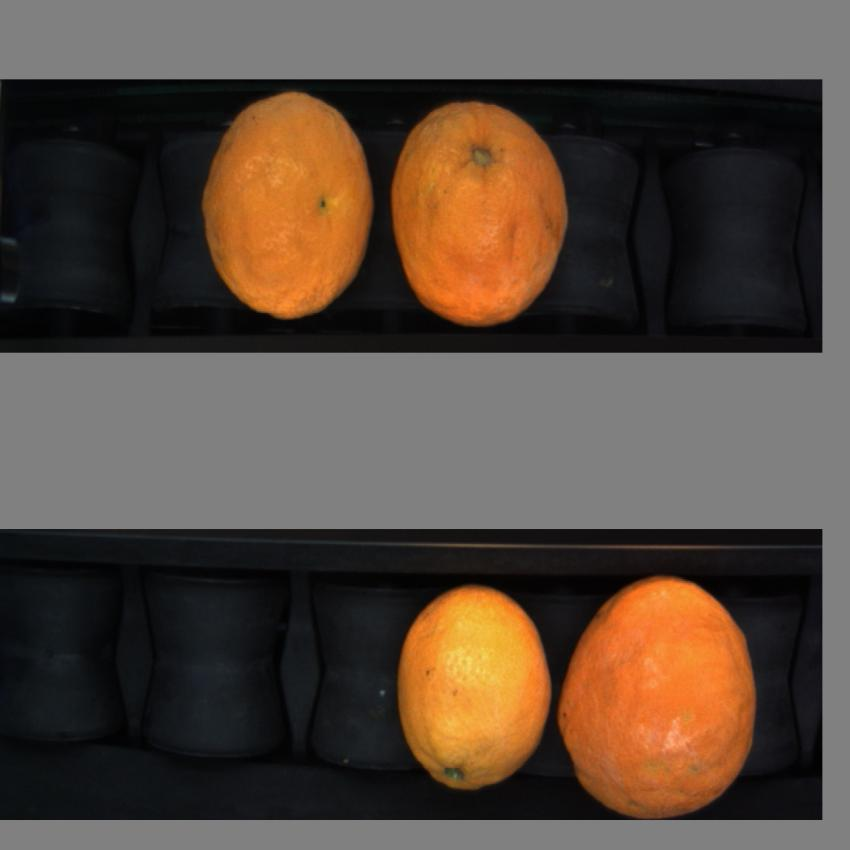Buen estado: (560, 574, 761, 810), (397, 573, 556, 799)
Mal estado: (389, 102, 581, 322), (199, 92, 379, 324)
